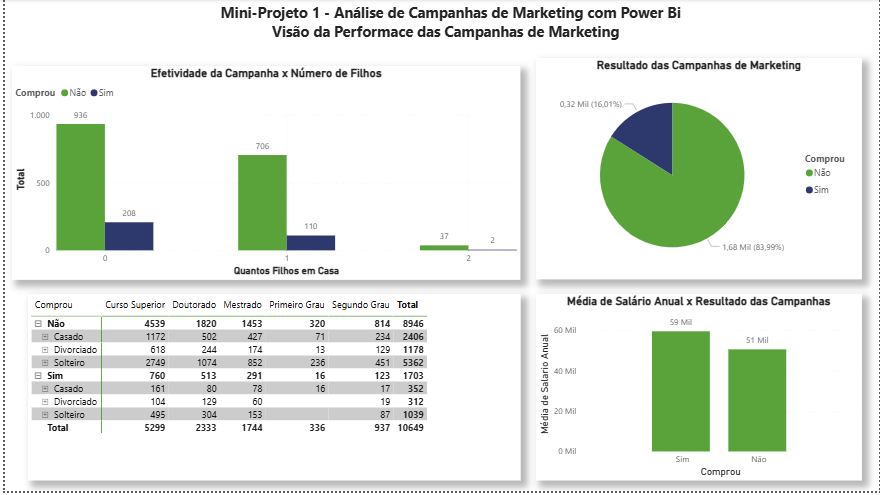

The dashboard page shown, as its layout file describes it:
{"tool":"powerbi","page":{"name":"Visão Campanhas","canvas":[1280,720],"ordinal":2},"visuals":[{"type":"textbox","box":[10.7,0,1269.3,97.8],"z":0},{"type":"pieChart","title":"Resultado das Campanhas de Marketing","fields":{"Category":["DadosMarketing.Comprou"],"Y":["CountNonNull(DadosMarketing.ID)"]},"box":[777.5,87.1,476.6,323.8],"z":1},{"type":"clusteredColumnChart","title":"Média de Salário Anual x Resultado das Campanhas","fields":{"Y":["Avg(DadosMarketing.Salario Anual)"],"Category":["DadosMarketing.Comprou"]},"box":[777.5,432.3,476.6,273.4],"z":2},{"type":"pivotTable","fields":{"Rows":["DadosMarketing.Comprou","DadosMarketing.Estado Civil","DadosMarketing.Pais"],"Values":["Sum(DadosMarketing.Numero Visitas WebSite Mes)"],"Columns":["DadosMarketing.Escolaridade"]},"box":[33.6,432.3,721,273.4],"z":3},{"type":"clusteredColumnChart","title":"Efetividade da Campanha x Número de Filhos","fields":{"Category":["DadosMarketing.Filhos em Casa"],"Series":["DadosMarketing.Comprou"],"Y":["CountNonNull(DadosMarketing.Filhos em Casa)"]},"box":[10.7,97.8,743.9,313.1],"z":4}]}

Visuals, with their boxes in screenshot pixels (x1, y1, x2, y2), scaled from the page's 1280x720 canvas onto the 880x495 screenshot:
textbox: 7,0,879,67
"Resultado das Campanhas de Marketing" pieChart: 535,60,862,282
"Média de Salário Anual x Resultado das Campanhas" clusteredColumnChart: 535,297,862,485
pivotTable - DadosMarketing.Comprou x DadosMarketing.Estado Civil: 23,297,519,485
"Efetividade da Campanha x Número de Filhos" clusteredColumnChart: 7,67,519,282
